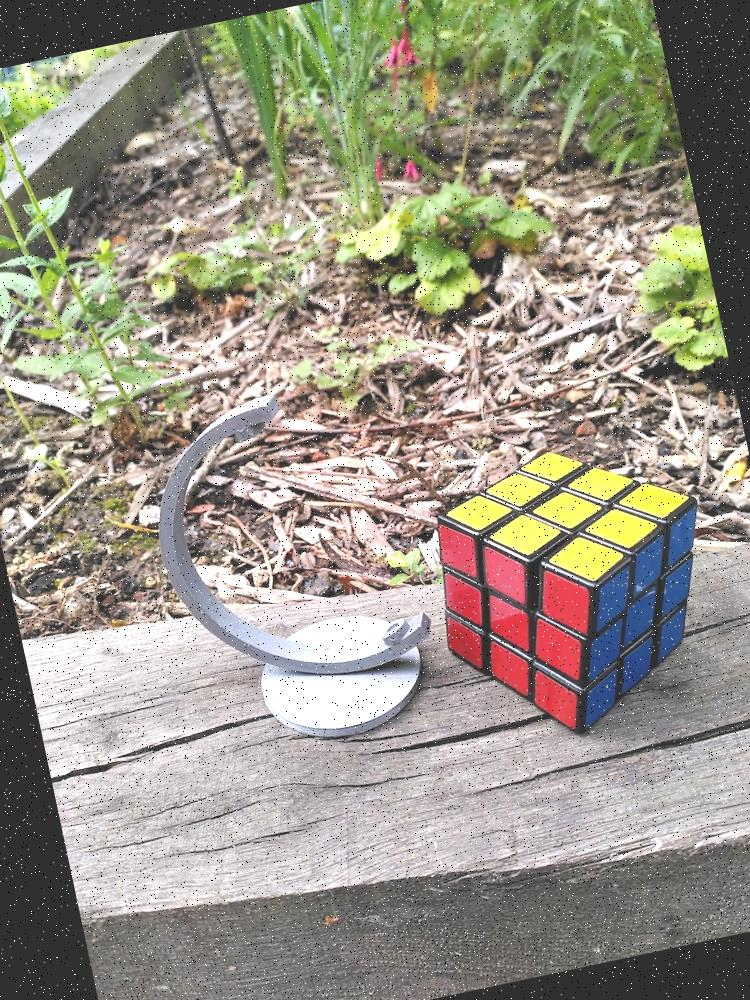rubiks_cube: (437, 452, 696, 730)
